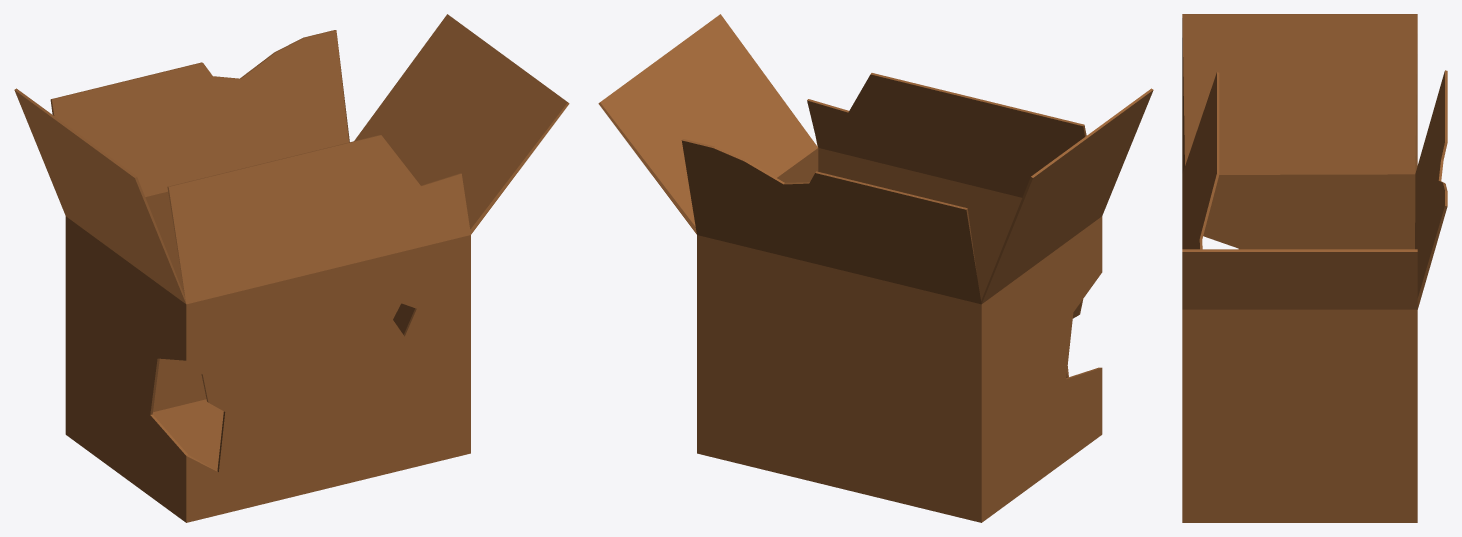
File: LP_PostApoc_LargeBox.fbx
The picture shows the model from 3 angles, left to right: view 1: azimuth 30°, elevation 25°; view 2: azimuth 150°, elevation 25°; view 3: azimuth 270°, elevation 25°; orthographic projection. The views are drawn at different scales.
Parts seen in each view (by area): view 1: LargeBox; view 2: LargeBox; view 3: LargeBox.
Part boxes in pixels (box(x1,y1,x2,y2)): LargeBox: box(14, 14, 569, 522); LargeBox: box(598, 14, 1153, 522); LargeBox: box(1182, 14, 1447, 522).
Size of the model in its own units: 184 by 145 by 99.75.
